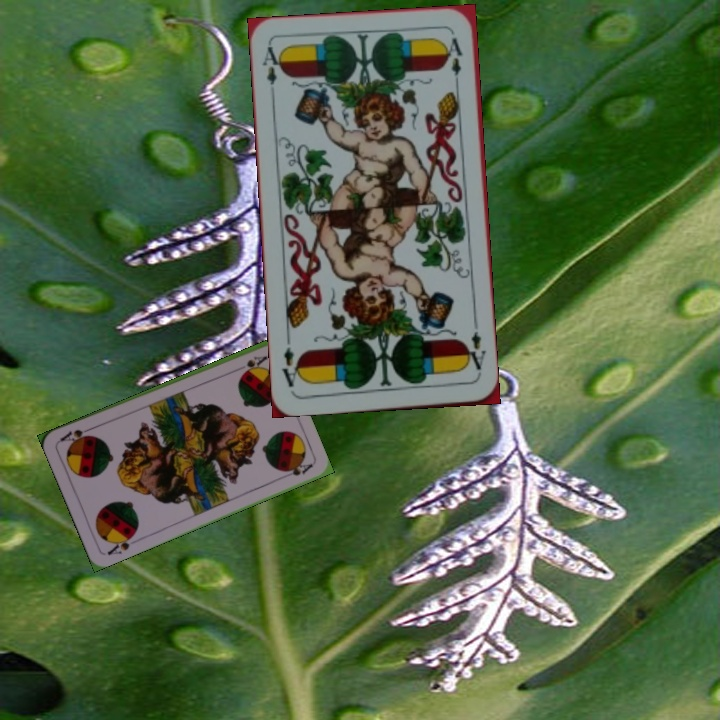EA: (258, 42, 285, 101), (461, 327, 489, 378)
SA: (103, 529, 138, 558), (241, 352, 269, 373)
